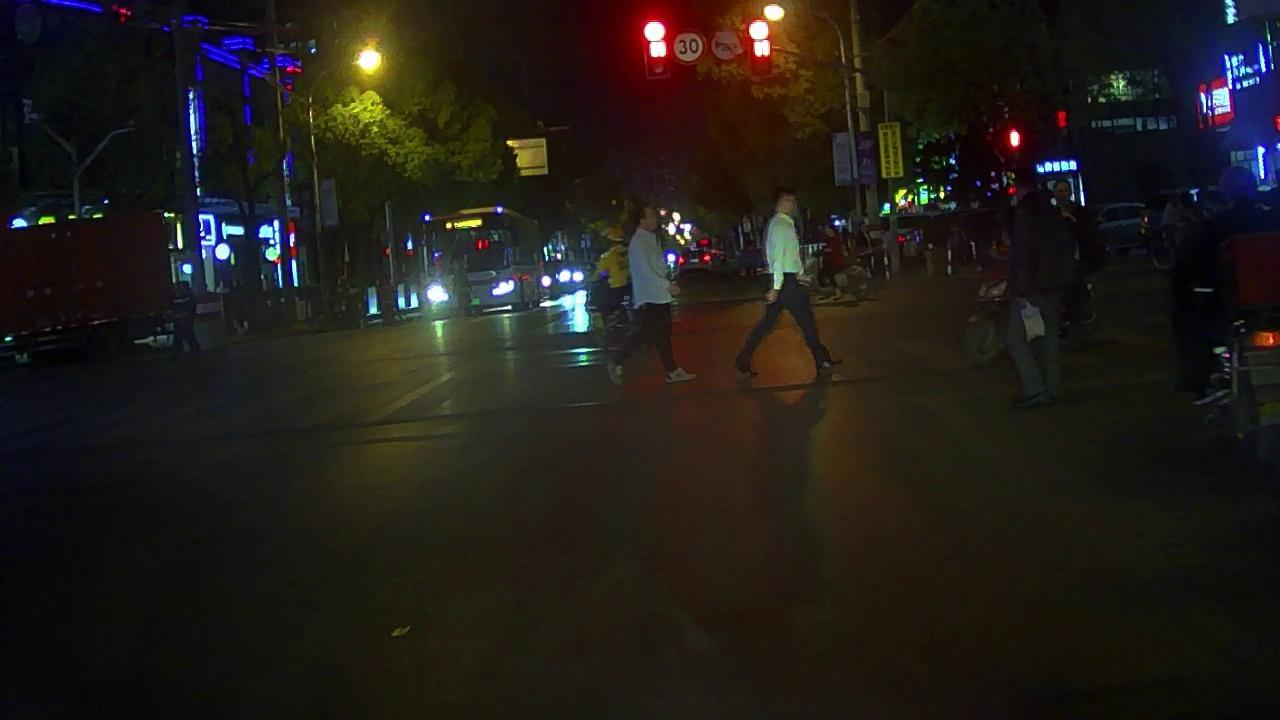traffic_light: (641, 18, 669, 76), (748, 18, 773, 74)
